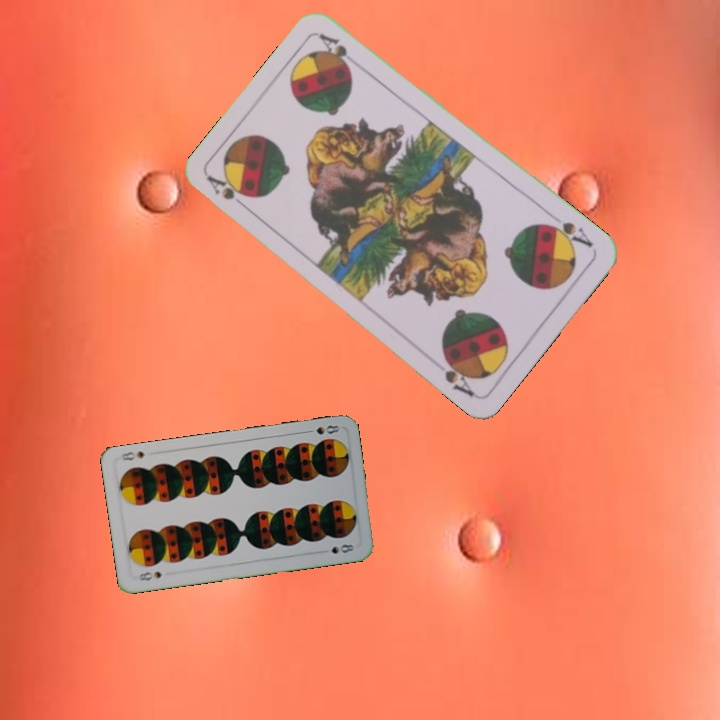S8: (301, 421, 342, 437), (135, 567, 165, 583)
SA: (204, 172, 254, 215), (540, 217, 595, 251)
